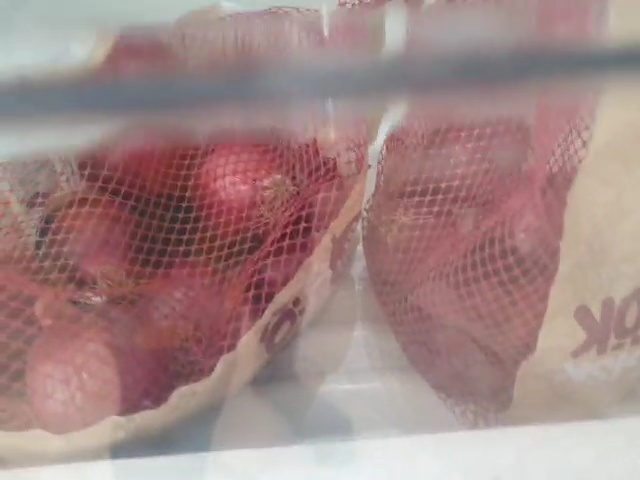red_onion: (1, 114, 340, 430), (387, 117, 556, 392)
